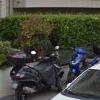Motorcycle: (7, 47, 67, 100)
